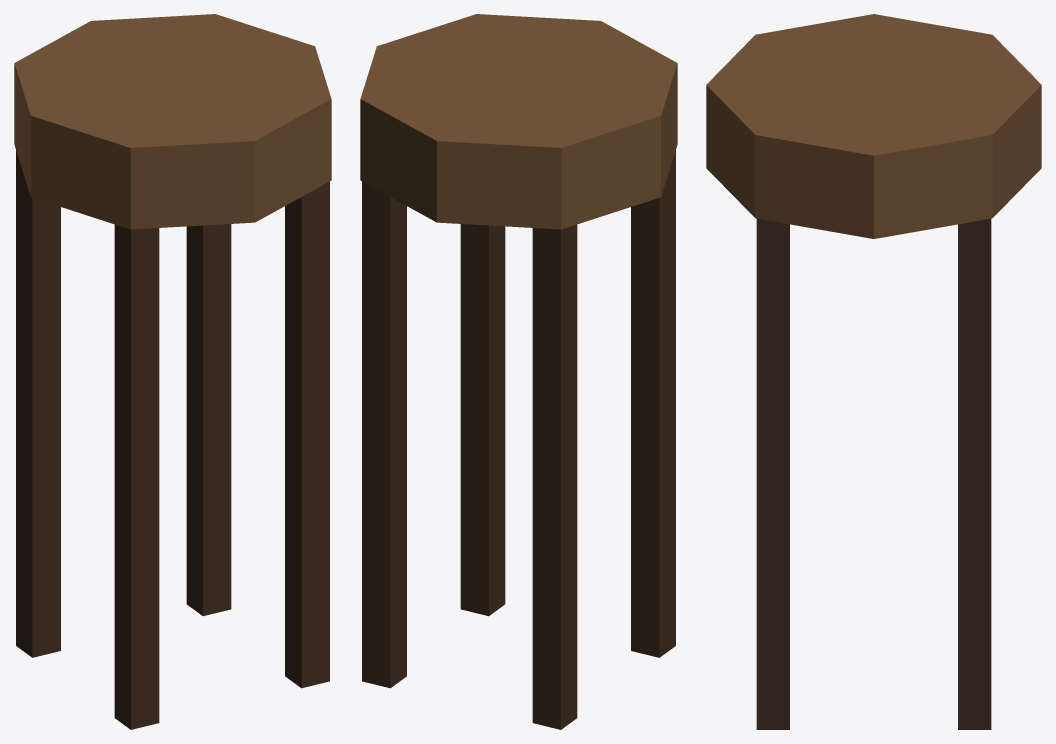
File: SM_Wood_Stool_A.glb
The picture shows the model from 3 angles, left to right: view 1: azimuth 30°, elevation 25°; view 2: azimuth 150°, elevation 25°; view 3: azimuth 270°, elevation 25°; orthographic projection. The views are drawn at different scales.
Visible parts, largest first — view 1: SM_Wood_Stool_A; view 2: SM_Wood_Stool_A; view 3: SM_Wood_Stool_A.
Boxes of the visible parts, bbox=[...] form: SM_Wood_Stool_A: bbox=[14, 14, 331, 729]; SM_Wood_Stool_A: bbox=[360, 14, 677, 729]; SM_Wood_Stool_A: bbox=[706, 14, 1041, 729].
Bounding box in the file's own units: 0.29 × 0.568 × 0.29.
1 material, 1 textured.
